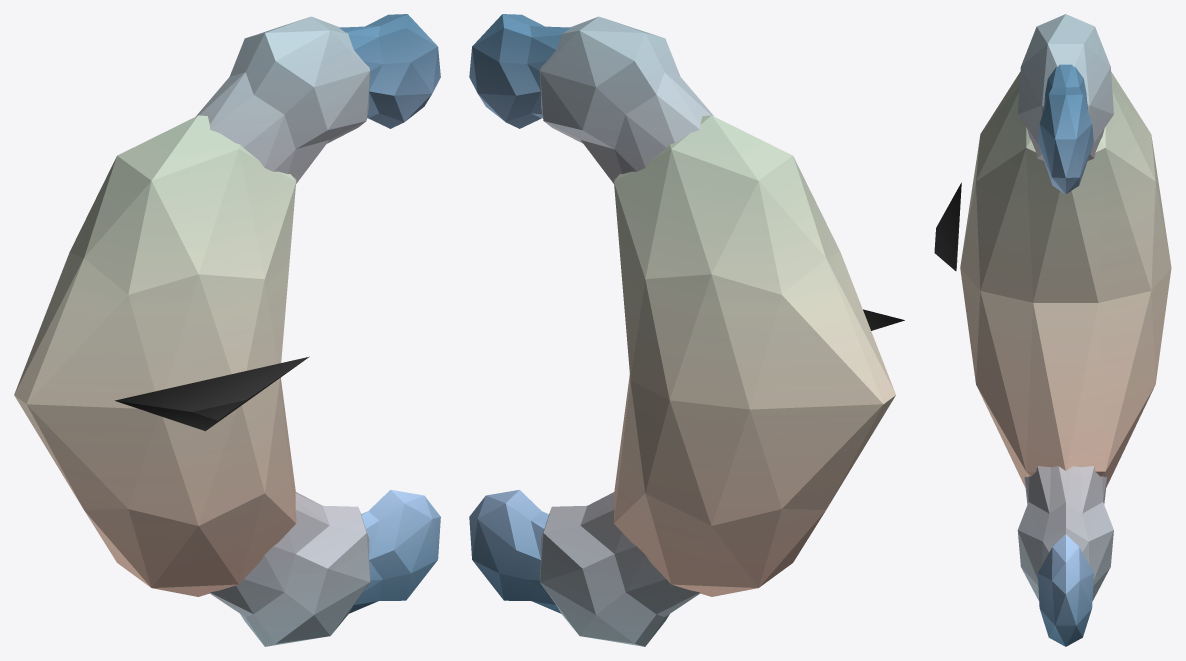
Rendered from Luneth.fbx.
3 views of the same model, side by side, from view 1: azimuth 30°, elevation 25°; view 2: azimuth 150°, elevation 25°; view 3: azimuth 270°, elevation 25° (orthographic). The views are drawn at different scales.
Parts seen in each view (by area): view 1: Icosphere.022, Icosphere.026, Icosphere.023, Icosphere.027, Icosphere.024, Icosphere.025; view 2: Icosphere.022, Icosphere.026, Icosphere.023, Icosphere.027, Icosphere.024; view 3: Icosphere.022, Icosphere.023, Icosphere.026, Icosphere.027, Icosphere.024, Icosphere.025.
Boxes of the visible parts, <box> form: Icosphere.022: <box>14,115,296,596</box>; Icosphere.026: <box>195,16,370,183</box>; Icosphere.023: <box>210,492,370,646</box>; Icosphere.027: <box>339,14,440,128</box>; Icosphere.024: <box>349,489,440,613</box>; Icosphere.025: <box>115,356,309,431</box>; Icosphere.022: <box>614,115,895,596</box>; Icosphere.026: <box>539,16,713,183</box>; Icosphere.023: <box>539,492,700,646</box>; Icosphere.027: <box>469,14,570,128</box>; Icosphere.024: <box>469,490,561,613</box>; Icosphere.022: <box>960,71,1171,487</box>; Icosphere.023: <box>1017,466,1113,601</box>; Icosphere.026: <box>1017,14,1113,160</box>; Icosphere.027: <box>1037,64,1093,194</box>; Icosphere.024: <box>1037,534,1093,646</box>; Icosphere.025: <box>934,182,961,270</box>.
Bounding box in the file's own units: 347 × 484 × 179.
